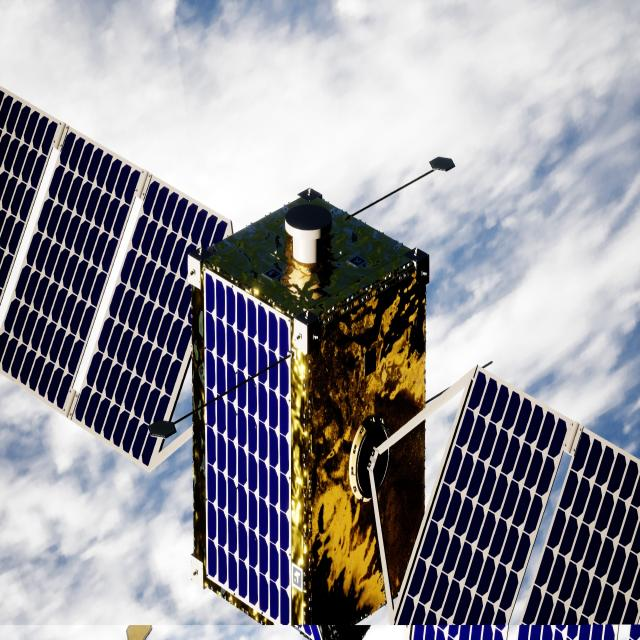satellite: (0, 87, 640, 640)
